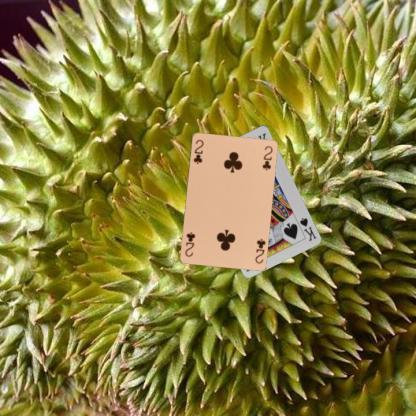2c: (190, 136, 204, 166), (252, 235, 266, 264)
Ks: (298, 216, 318, 243)
